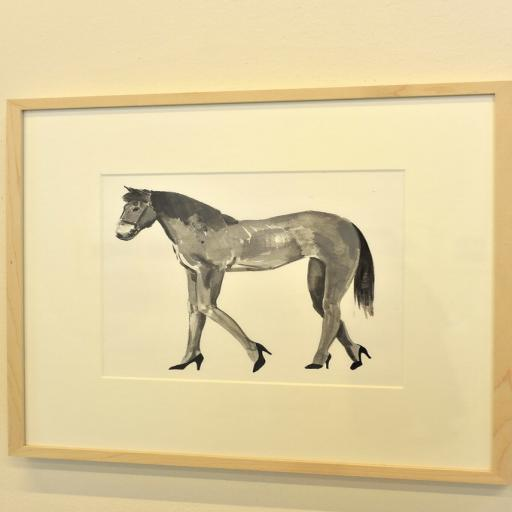Horse: (110, 181, 376, 371)
